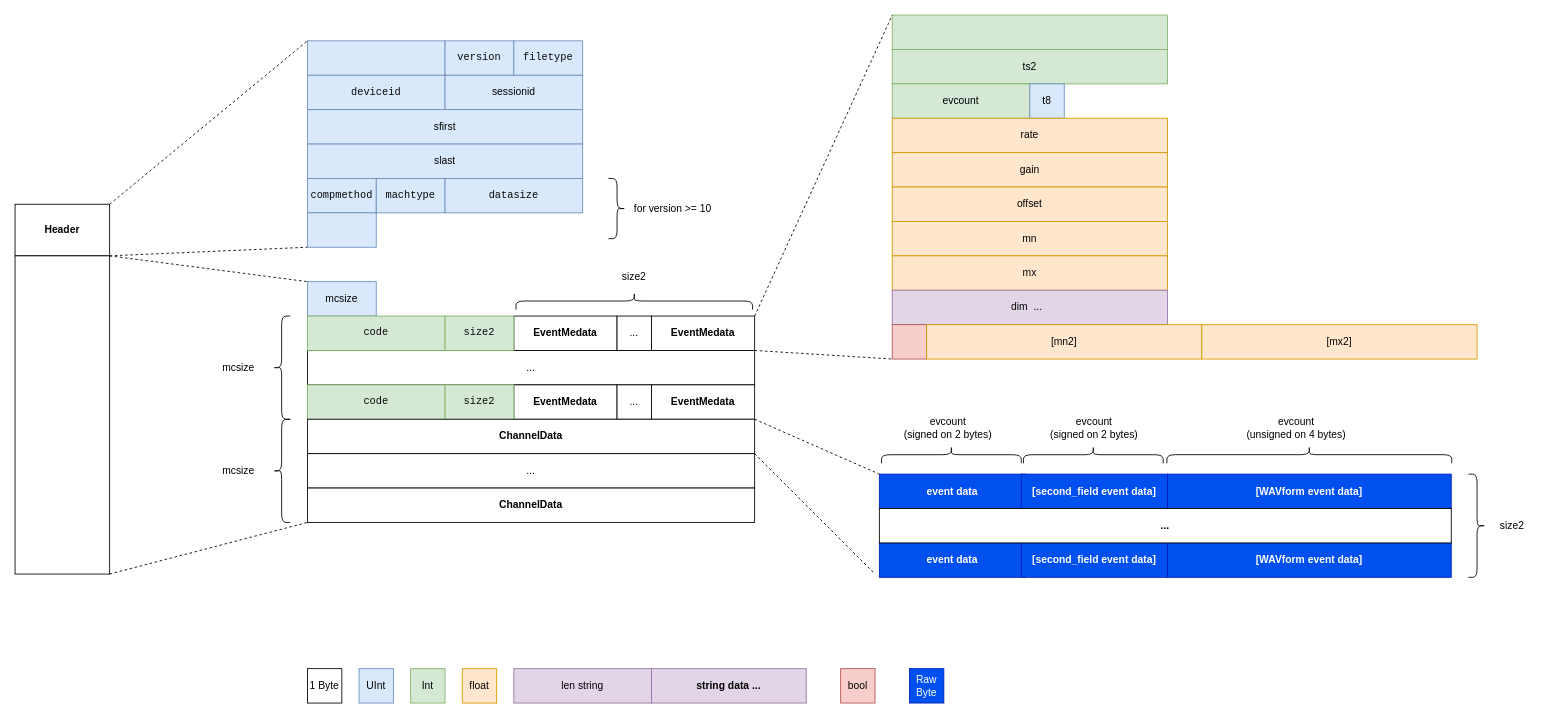
The diagram is 1553 pixels wide and 718 high, and some of its shapes have lost their labels. The shapes that lost their labels are listed below. From the top down, each one's box as (x1, y1, x2, y2) in pixels, then its label:
(891, 14, 1167, 49): ts1
(307, 40, 445, 75): 3341948587 (magicnumber)
(307, 212, 376, 247): crc16
(891, 324, 927, 359): second_field
(14, 255, 110, 574): Data
